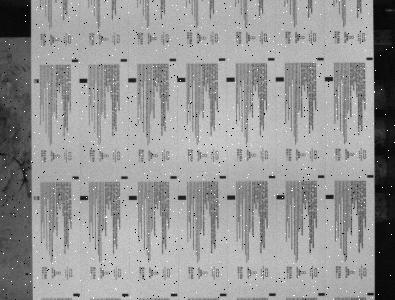incorrect qblock: (33, 196, 40, 200), (34, 79, 39, 83)
qblock: (177, 77, 186, 82), (325, 194, 334, 199), (79, 78, 87, 83), (178, 195, 186, 200), (129, 195, 137, 200), (227, 77, 235, 82), (276, 195, 285, 199), (324, 77, 333, 81), (227, 195, 235, 199), (80, 196, 88, 200), (128, 78, 136, 82), (276, 77, 284, 81)
smallqblock: (219, 175, 227, 179), (268, 57, 275, 61), (170, 293, 178, 296), (71, 59, 79, 62), (169, 58, 177, 61), (268, 175, 276, 178), (122, 293, 129, 296), (269, 293, 276, 296), (220, 293, 227, 296), (73, 293, 80, 296), (318, 293, 325, 296), (120, 59, 127, 62), (219, 58, 226, 61), (317, 57, 324, 60), (72, 176, 79, 179), (367, 292, 374, 295), (366, 57, 373, 60), (121, 176, 128, 179), (170, 176, 177, 179), (318, 175, 325, 178), (367, 175, 374, 178)
